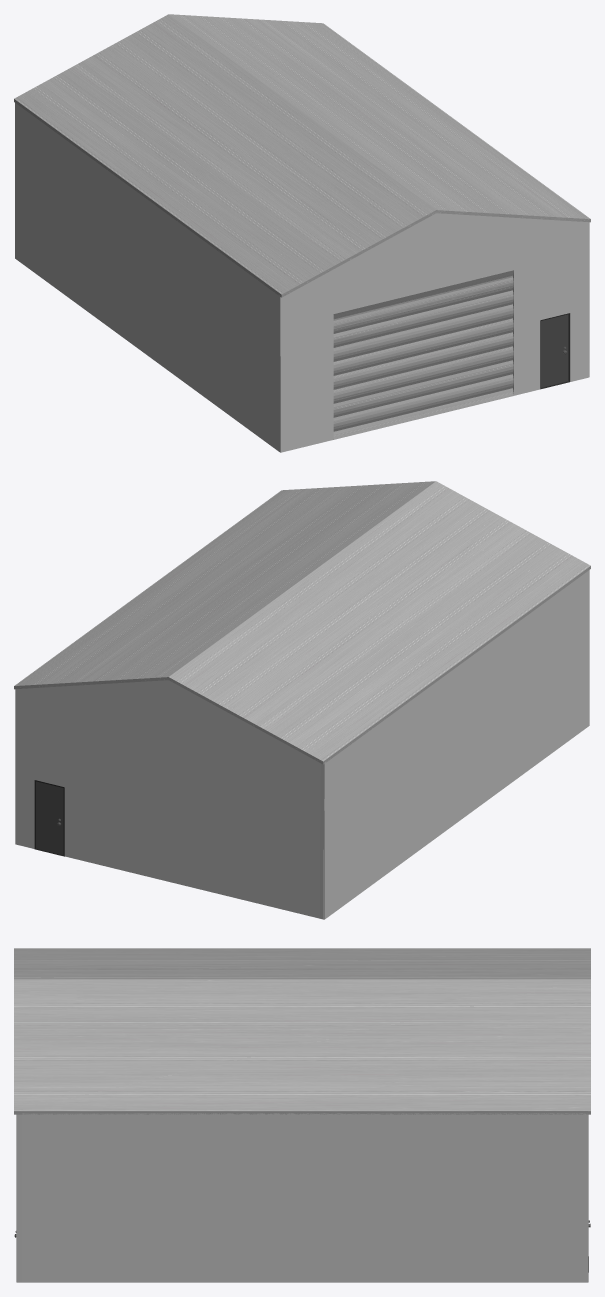
File: warehouse_observation_point.obj
3 renders of one model, top to bottom at view 1: azimuth 30°, elevation 25°; view 2: azimuth 150°, elevation 25°; view 3: azimuth 270°, elevation 25°, orthographic. The views are drawn at different scales.
Parts seen in each view (by area): view 1: Roof, Wall_L, Wall_F, Door_Bit, Front; view 2: Roof, Wall_B, Wall_L, Back; view 3: Wall_R, Roof.
Boxes of the visible parts, <box> form: Roof: <box>14,14,590,297</box>; Wall_L: <box>15,103,280,452</box>; Wall_F: <box>280,213,589,452</box>; Door_Bit: <box>333,270,513,439</box>; Front: <box>540,313,569,389</box>; Roof: <box>14,481,590,764</box>; Wall_B: <box>15,680,324,919</box>; Wall_L: <box>324,570,589,919</box>; Back: <box>34,780,64,856</box>; Wall_R: <box>16,1113,588,1282</box>; Roof: <box>14,948,590,1114</box>.
Size of the model in its own units: 10.3 by 6.55 by 15.43.
